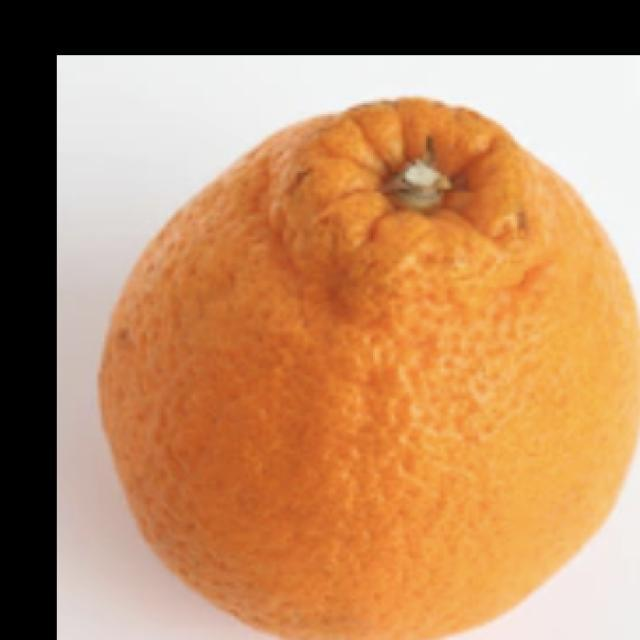Orange: (96, 94, 639, 639)
